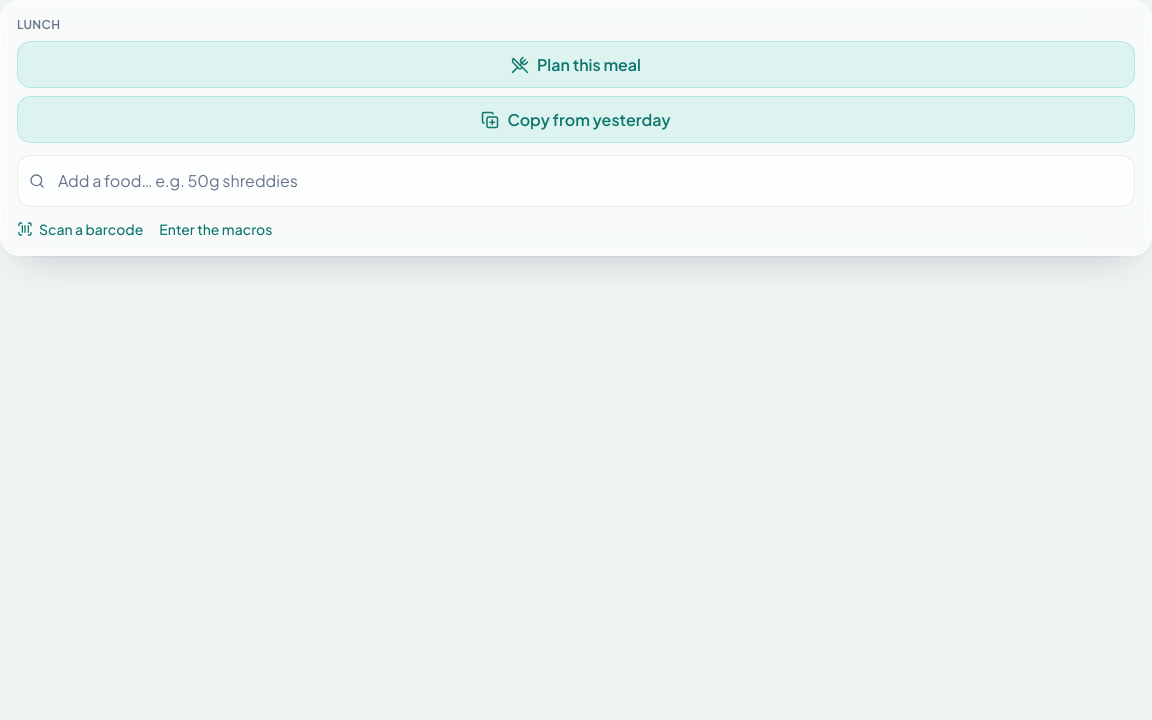
Test: meal builder, fresh food sizes › reads a countable cooked food as a plain count, no '(cooked)s'
Type "egg" into the field with placeholder "Add a food… e.g. 50g shreddies" at (576, 181), box [17,155,1135,207]
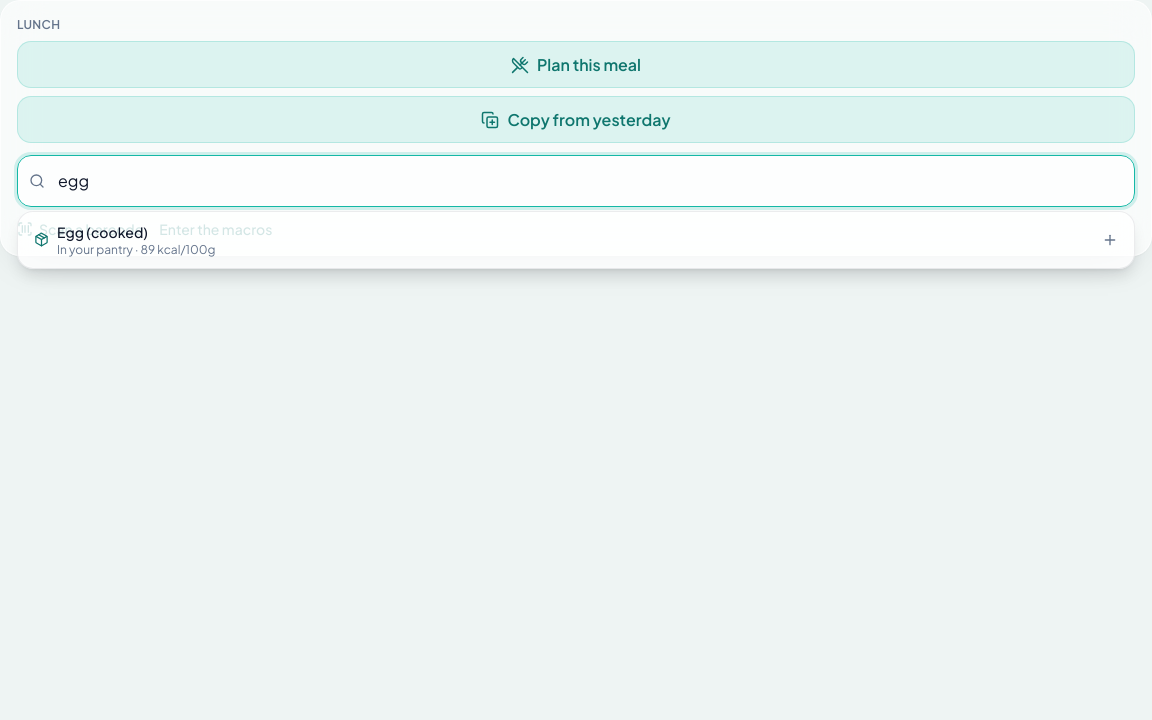
Click the button "Egg (cooked) In your pantry · 89 kcal/100g" at (102, 232), box [18,212,1134,268]
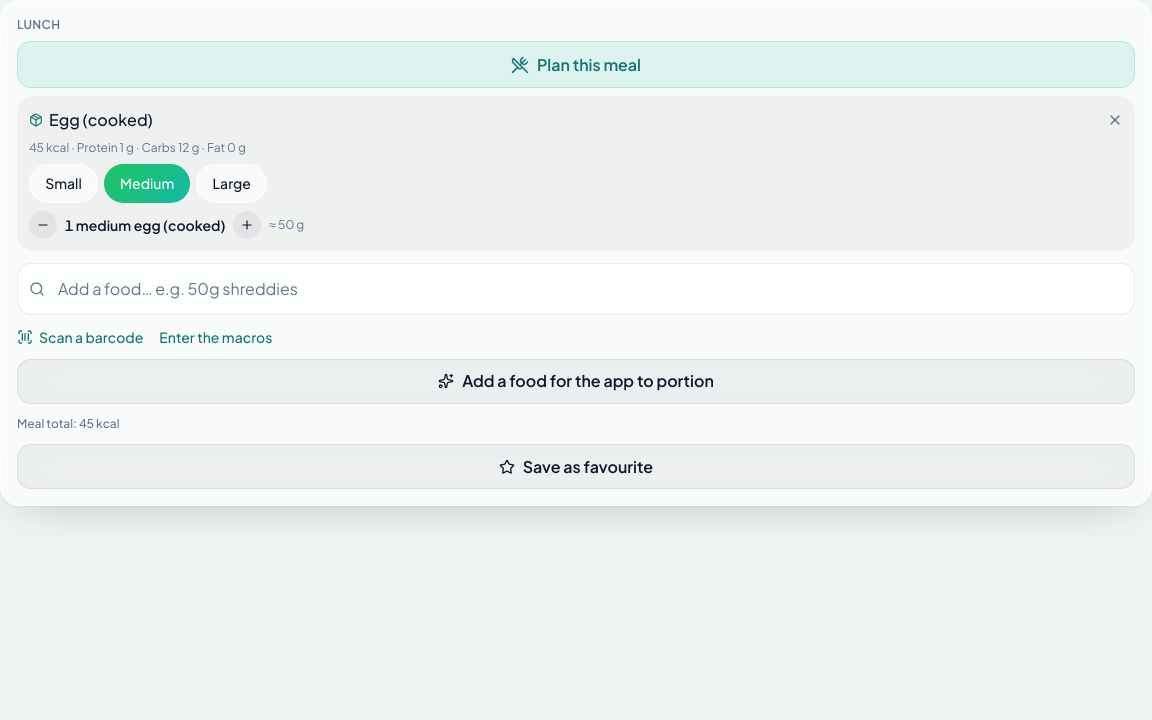
Click the button named "one more" at (247, 225), box [233,211,261,239]
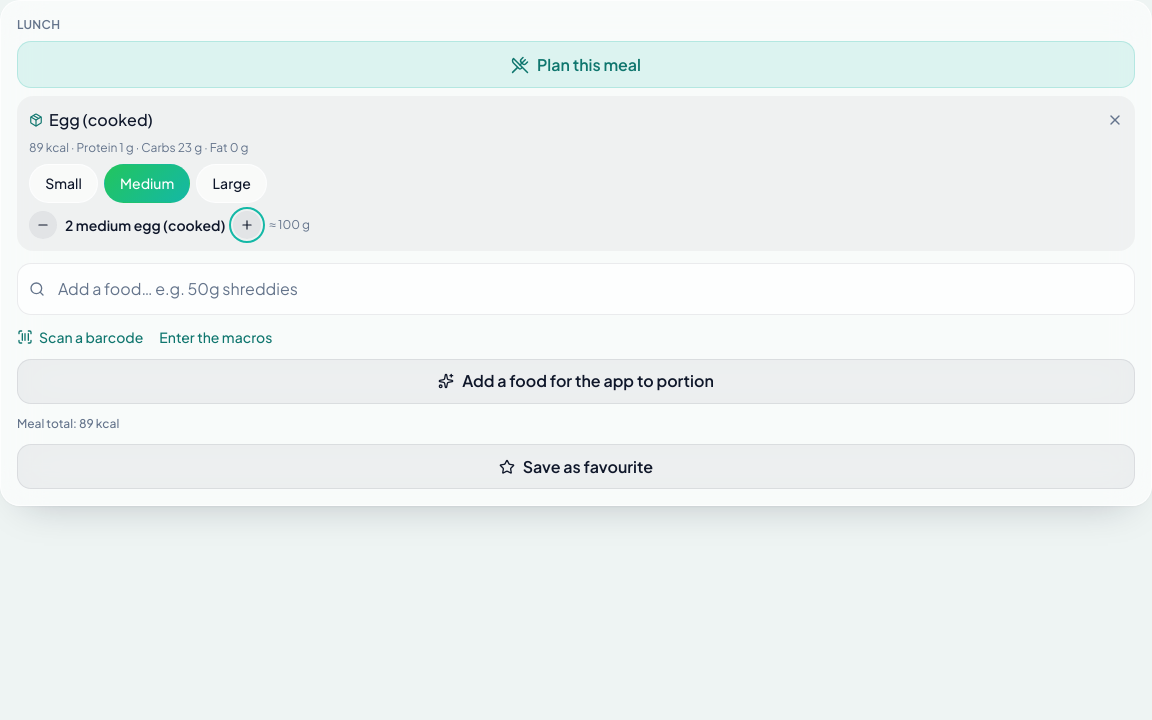
Now the text "2 medium egg (cooked)" is shown, box [65,215,225,235]
